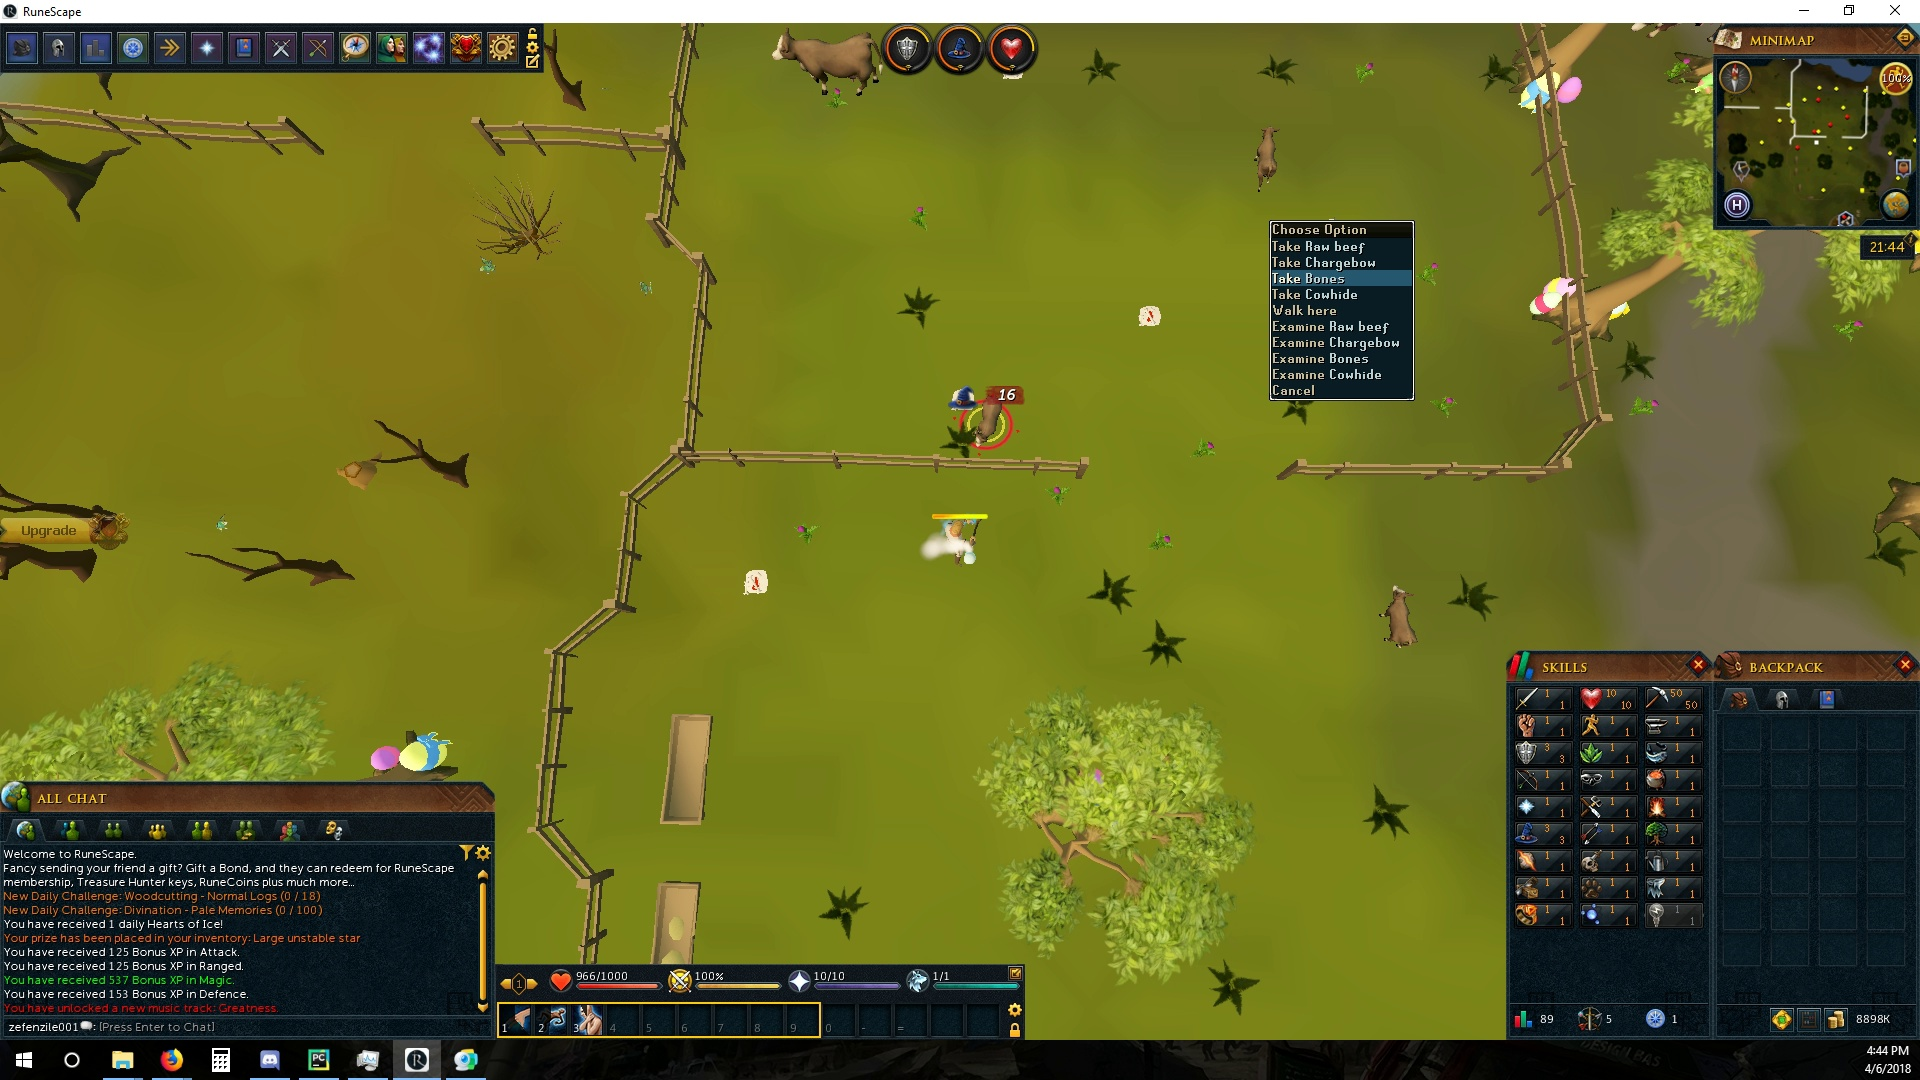calf: (1379, 585, 1422, 651), (968, 392, 1007, 447), (1255, 127, 1282, 193)
cow: (769, 29, 890, 98)
cow_drop: (742, 566, 773, 597), (1138, 302, 1164, 328)
